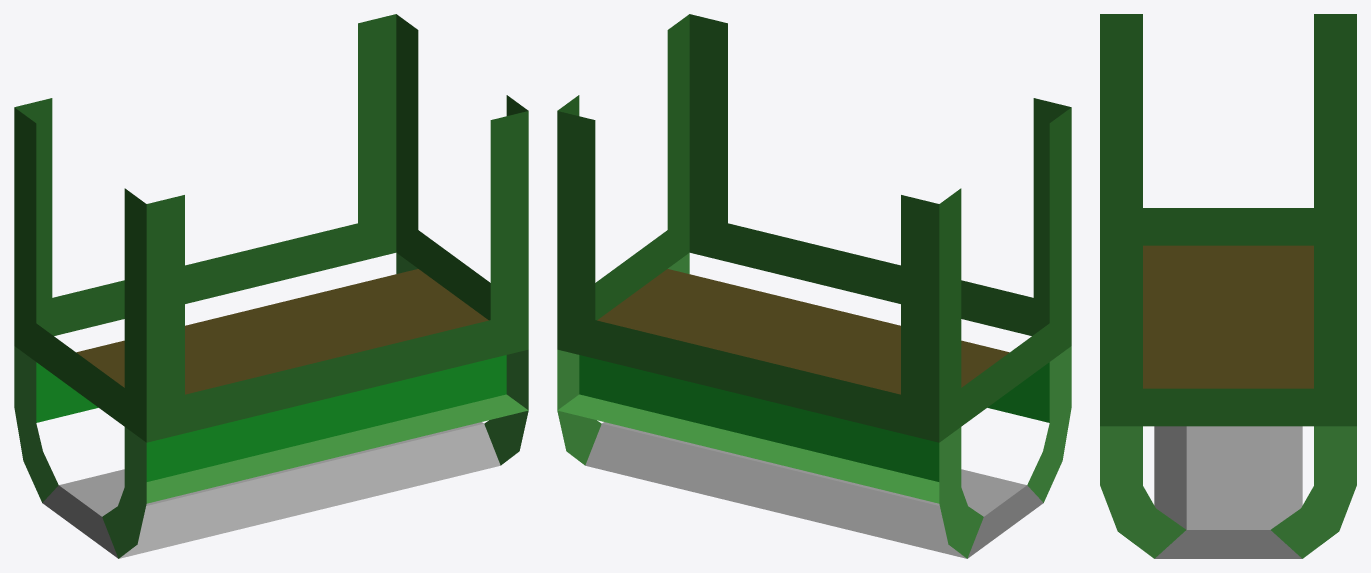
File: tunnel2.obj
3 views of the same model, side by side, from view 1: azimuth 30°, elevation 25°; view 2: azimuth 150°, elevation 25°; view 3: azimuth 270°, elevation 25° (orthographic). The views are drawn at different scales.
Parts seen in each view (by area): view 1: Cube.014_Cube.011; view 2: Cube.014_Cube.011; view 3: Cube.014_Cube.011.
Part boxes in pixels (bbox=[...]): Cube.014_Cube.011: bbox=[14, 14, 528, 558]; Cube.014_Cube.011: bbox=[557, 14, 1071, 558]; Cube.014_Cube.011: bbox=[1100, 14, 1356, 558].
Bounding box in the file's own units: 400 × 375 × 240.
